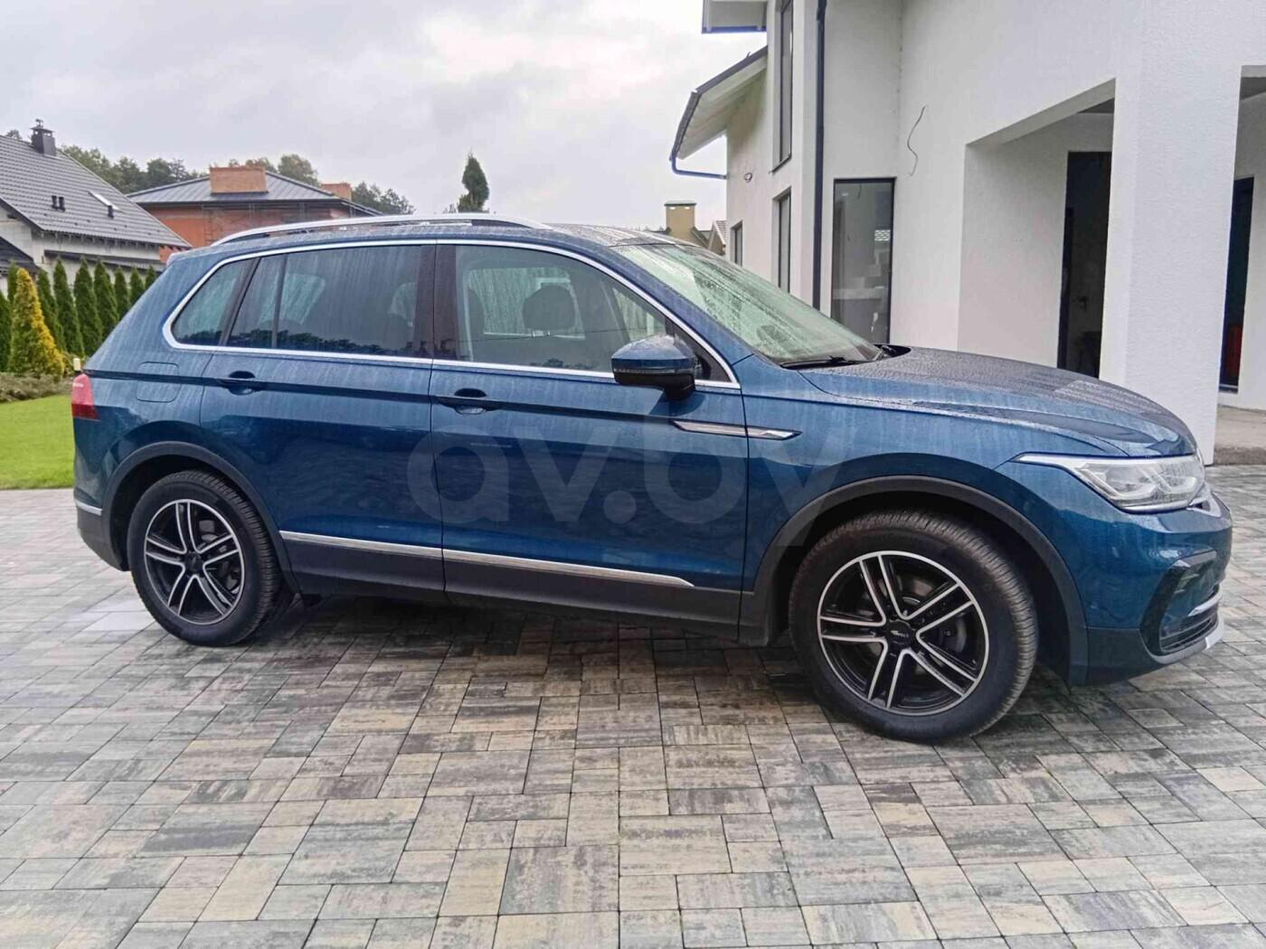Tiguan_2020-2024: (66, 212, 1235, 741)
